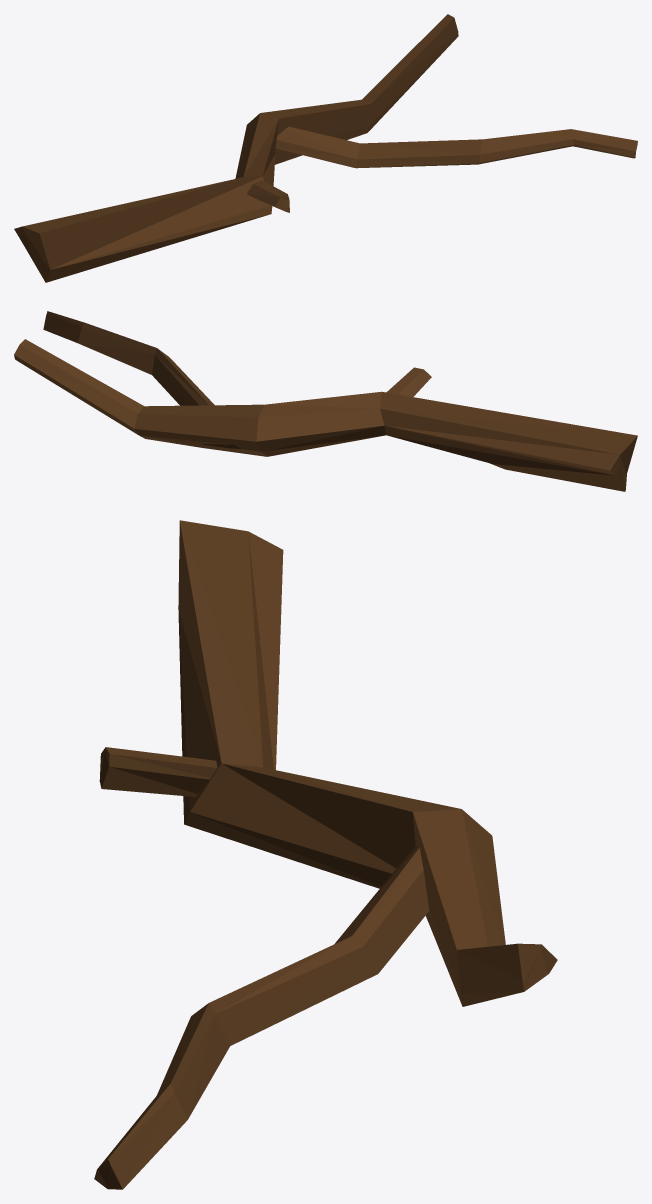
Rendered from tree-oak-branch-a.gltf.
3 views of the same model, one above another, from view 1: azimuth 30°, elevation 25°; view 2: azimuth 150°, elevation 25°; view 3: azimuth 270°, elevation 25° (orthographic). The views are drawn at different scales.
Parts seen in each view (by area): view 1: tree-oak-branch-a; view 2: tree-oak-branch-a; view 3: tree-oak-branch-a.
Part boxes in pixels (left/top/right/bottom): tree-oak-branch-a: left=14, top=14, right=637, bottom=282; tree-oak-branch-a: left=14, top=311, right=637, bottom=491; tree-oak-branch-a: left=94, top=520, right=557, bottom=1189.
Bounding box in the file's own units: 0.0457 × 0.00645 × 0.0158.
